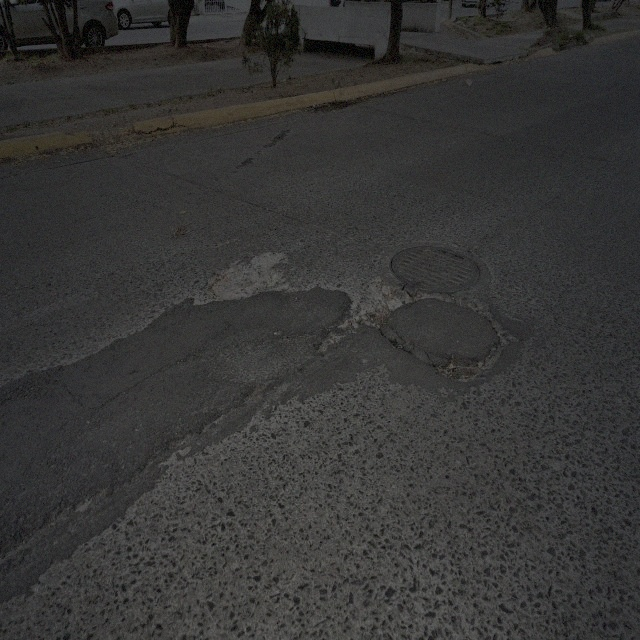pothole: (46, 438, 178, 524), (208, 249, 289, 302), (438, 338, 509, 382), (318, 312, 356, 354)
